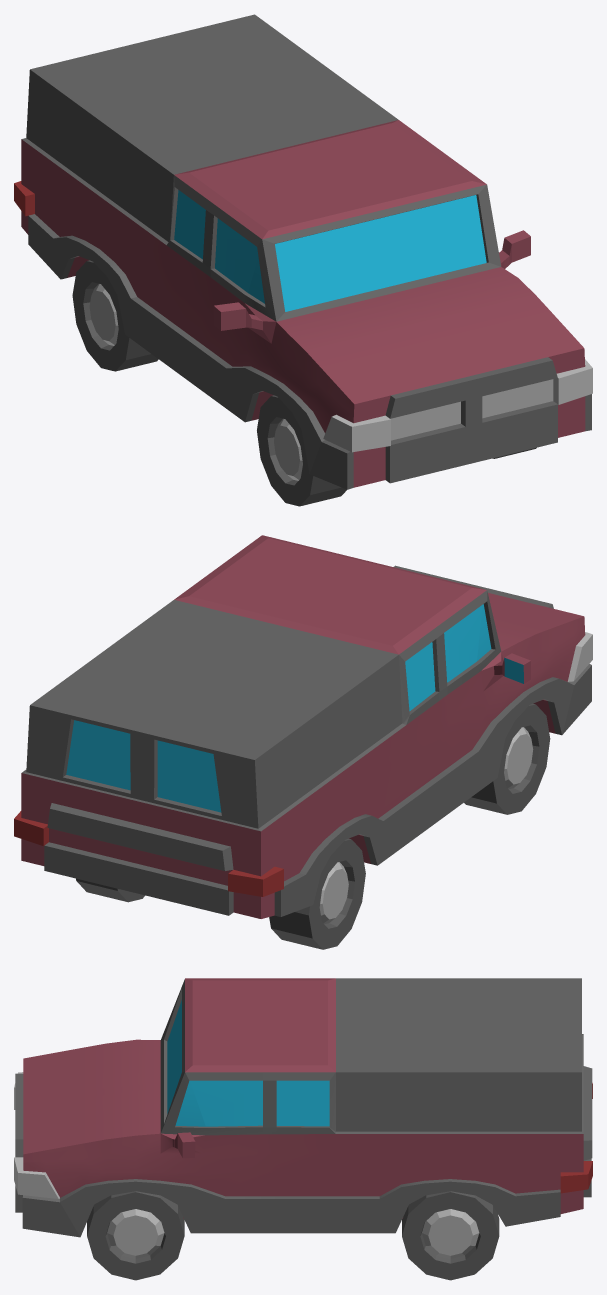
Rendered from Maroon Truck with Bed.fbx.
The picture shows the model from 3 angles, top to bottom: view 1: azimuth 30°, elevation 25°; view 2: azimuth 150°, elevation 25°; view 3: azimuth 270°, elevation 25°; orthographic projection. The views are drawn at different scales.
Parts seen in each view (by area): view 1: polySurface20; view 2: polySurface20; view 3: polySurface20.
Boxes of the visible parts, x1=… form: polySurface20: x1=14, y1=14, x2=592, y2=506; polySurface20: x1=14, y1=535, x2=592, y2=949; polySurface20: x1=14, y1=978, x2=592, y2=1280.
Bounding box in the file's own units: 2.88 × 2.17 × 5.46.
